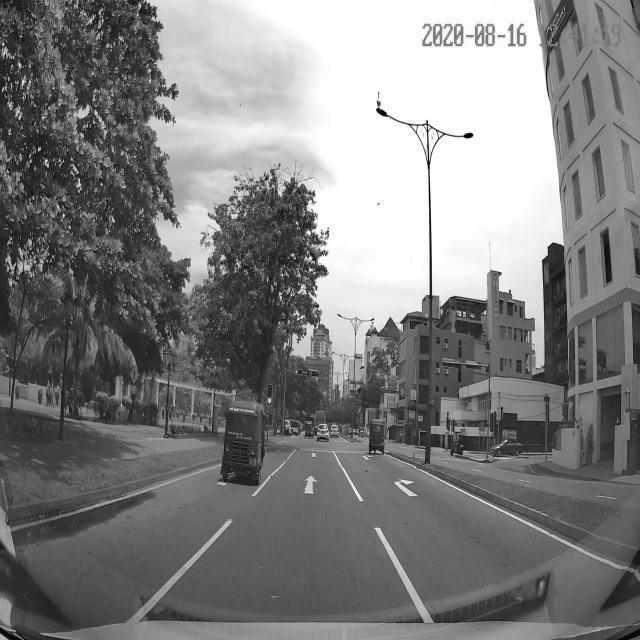forward: (227, 468, 371, 520)
